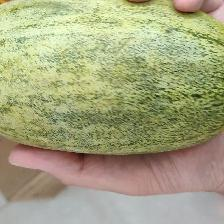gua: (34, 11, 211, 141)
